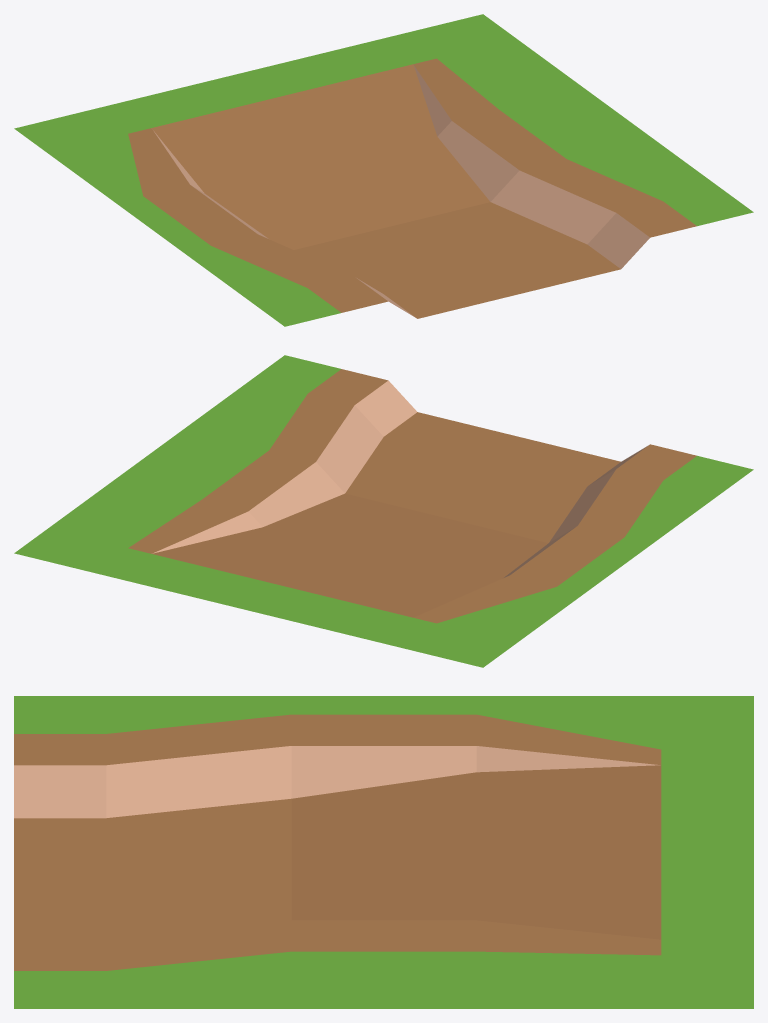
File: ground_pathEnd.glb
3 renders of one model, top to bottom at view 1: azimuth 30°, elevation 25°; view 2: azimuth 150°, elevation 25°; view 3: azimuth 270°, elevation 25°, orthographic. The views are drawn at different scales.
Parts seen in each view (by area): view 1: ground_pathEnd; view 2: ground_pathEnd; view 3: ground_pathEnd.
Part boxes in pixels (x1,y1,x2,y2): ground_pathEnd: (14,14,753,326); ground_pathEnd: (14,355,753,667); ground_pathEnd: (14,696,753,1008).
Size of the model in its own units: 1 by 0.05 by 1.
